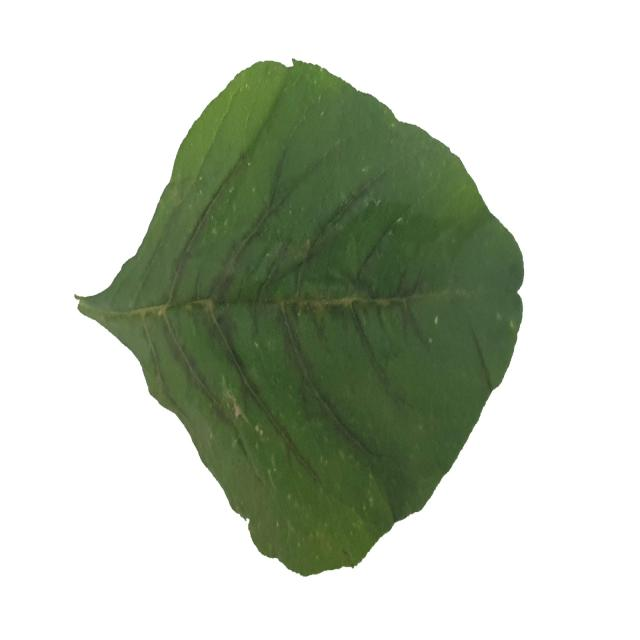Medicinal-Arive Dantu: (76, 58, 525, 578)
